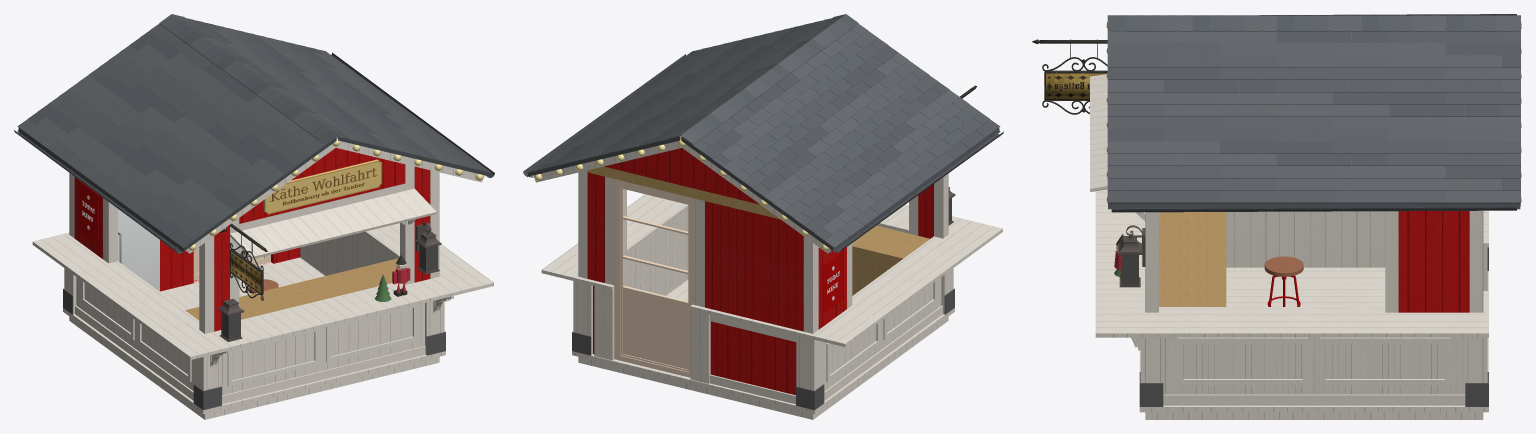
3 views of the same model, side by side, from view 1: azimuth 30°, elevation 25°; view 2: azimuth 150°, elevation 25°; view 3: azimuth 270°, elevation 25° (orthographic). The views are drawn at different scales.
Parts seen in each view (by area): view 1: Geom3D (×12), Geom3D_ (×12), Geom3D_Vách treo đèn#3 (×2), Geom3D_Component#18 (×2), Geom3D_Component#16 (×2), Geom3D_Thanh dinh, Geom3D_Bo goc (×2), Geom3D_Component#6, Geom3D_Thanh dinh#1, Geom3D_Component#17 (×2), Geom3D_Component#226, Geom3D_Component#231; view 2: Geom3D (×9), Geom3D_ (×13), Geom3D_Vách treo đèn#1, Geom3D_Component#169, Geom3D_Component#18 (×3), Geom3D_Bo goc (×2), Geom3D_Component#7 (×2), Geom3D_Vách treo đèn#2, Geom3D_Thanh dinh#3 (×2), Geom3D_Thanh dinh#1, Geom3D_Component#17 (×2), Geom3D_Vách treo đèn#3; view 3: Geom3D (×10), Geom3D_ (×8), Geom3D_Component#17 (×2), Geom3D_Thanh dinh#1, Geom3D_Component#18 (×2), Geom3D_Bo goc (×2), Geom3D_Component#231.
Boxes of the visible parts, box(x1,y1,x2,y2) form: Geom3D (×12): box(14, 14, 494, 410); Geom3D_ (×12): box(32, 138, 493, 419); Geom3D_Vách treo đèn#3 (×2): box(214, 166, 430, 331); Geom3D_Component#18 (×2): box(199, 170, 439, 333); Geom3D_Component#16 (×2): box(227, 304, 417, 386); Geom3D_Thanh dinh: box(222, 346, 425, 404); Geom3D_Bo goc (×2): box(194, 301, 444, 390); Geom3D_Component#6: box(239, 183, 405, 230); Geom3D_Thanh dinh#1: box(75, 305, 193, 400); Geom3D_Component#17 (×2): box(80, 280, 191, 381); Geom3D_Component#226: box(400, 164, 414, 284); Geom3D_Component#231: box(103, 198, 117, 263); Geom3D (×9): box(523, 14, 1003, 410); Geom3D_ (×13): box(533, 138, 1002, 419); Geom3D_Vách treo đèn#1: box(705, 201, 803, 331); Geom3D_Component#169: box(616, 181, 693, 377); Geom3D_Component#18 (×3): box(578, 170, 948, 333); Geom3D_Bo goc (×2): box(573, 281, 823, 390); Geom3D_Component#7 (×2): box(605, 176, 704, 307); Geom3D_Vách treo đèn#2: box(587, 172, 604, 282); Geom3D_Thanh dinh#3 (×2): box(709, 314, 796, 404); Geom3D_Thanh dinh#1: box(824, 305, 942, 400); Geom3D_Component#17 (×2): box(826, 280, 937, 381); Geom3D_Vách treo đèn#3: box(918, 184, 933, 238); Geom3D (×10): box(1045, 14, 1520, 406); Geom3D_ (×8): box(1090, 74, 1488, 419); Geom3D_Component#17 (×2): box(1178, 337, 1450, 385); Geom3D_Thanh dinh#1: box(1163, 394, 1465, 405); Geom3D_Component#18 (×2): box(1145, 210, 1483, 312); Geom3D_Bo goc (×2): box(1140, 337, 1487, 382); Geom3D_Component#231: box(1385, 211, 1398, 312).
Bounding box in the file's own units: 4.06 × 3.26 × 4.35.
Materials: 48 (11 with a texture image).
